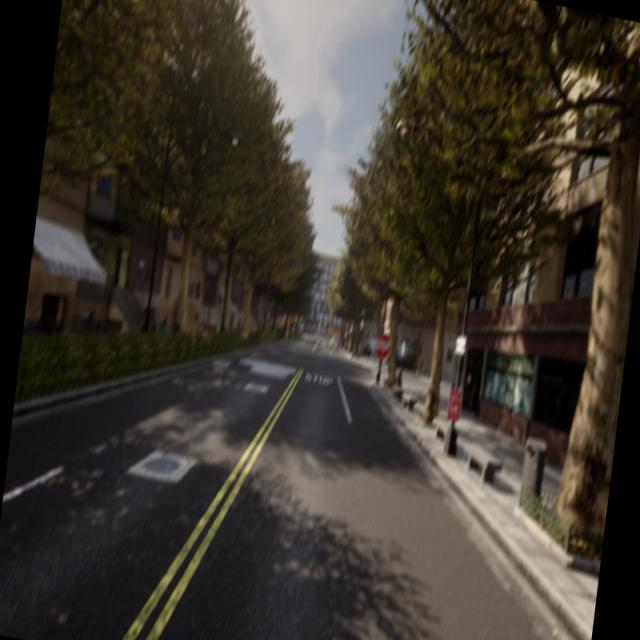stop sign: (373, 330, 392, 360)
